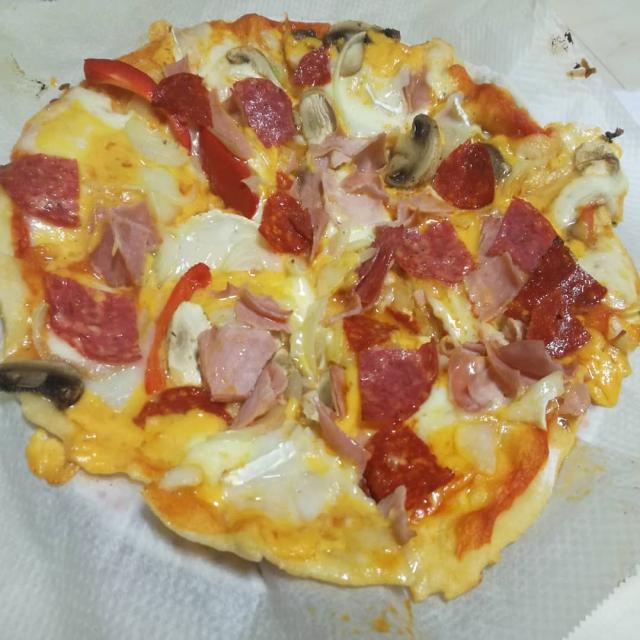mushrooms: (0, 354, 86, 412), (386, 108, 442, 194), (167, 295, 210, 389), (299, 87, 338, 146), (227, 44, 280, 87), (326, 19, 402, 47), (572, 139, 620, 175)
pepperoni: (501, 235, 611, 318), (360, 428, 463, 503), (426, 136, 501, 213), (132, 386, 234, 432), (526, 290, 592, 361), (257, 187, 315, 258), (153, 72, 215, 127), (340, 309, 400, 353)
pizza: (0, 8, 640, 604)
